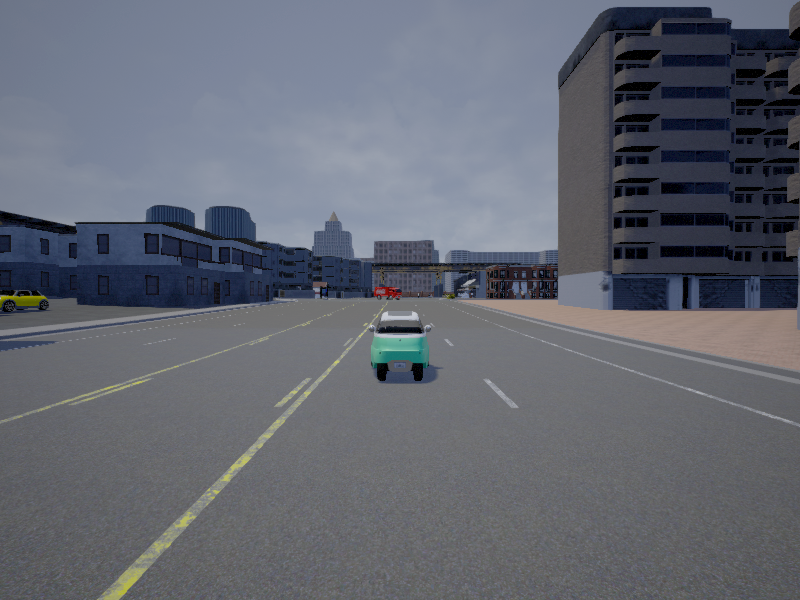Benign: (369, 311, 433, 382), (1, 289, 50, 312), (374, 287, 404, 303)
